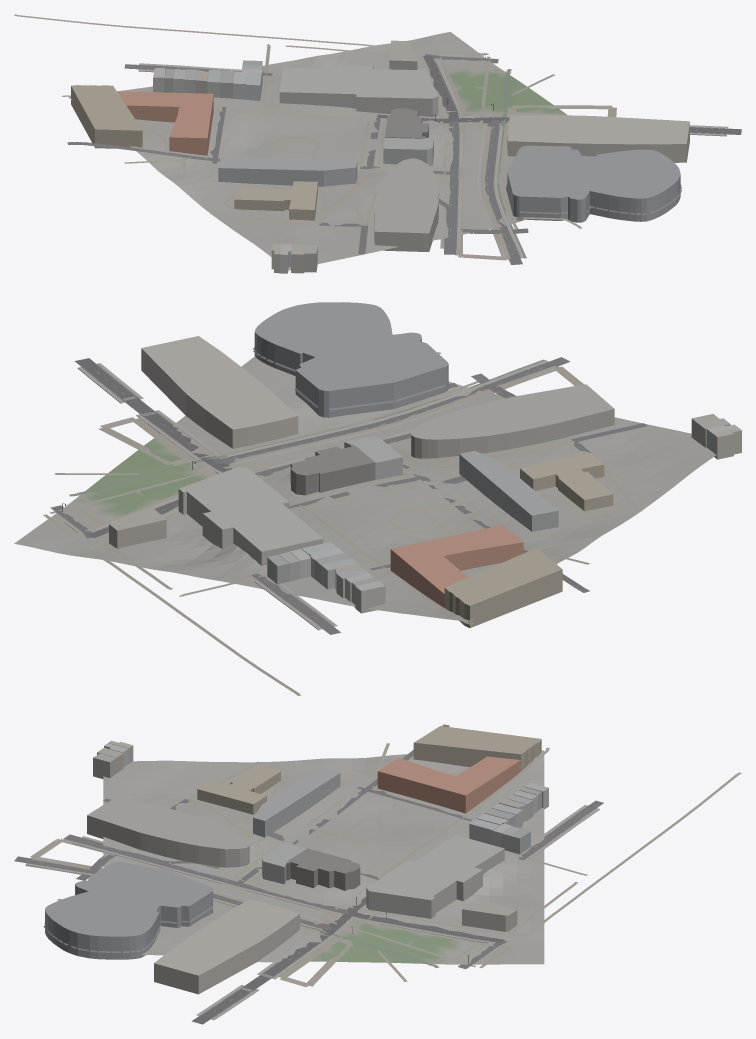
The model's file is tile_-5_-3.glb.
3 renders of one model, top to bottom at view 1: azimuth 30°, elevation 25°; view 2: azimuth 150°, elevation 25°; view 3: azimuth 270°, elevation 25°, orthographic. The views are drawn at different scales.
Visible parts, largest first — view 1: buildings, terrain, paths, roads, sidewalks; view 2: buildings, terrain, paths, roads, sidewalks; view 3: buildings, terrain, paths, roads, sidewalks.
Boxes of the visible parts, x1,y1,x2,y2 form: buildings: (71,40,689,273); terrain: (68,32,593,270); paths: (14,14,616,260); roads: (67,54,741,264); sidewalks: (138,54,728,259); buildings: (109,302,741,627); terrain: (14,356,716,621); paths: (43,352,641,695); roads: (50,357,647,634); sidewalks: (64,360,558,630); buildings: (45,726,548,994); terrain: (103,750,544,964); paths: (25,743,741,987); roads: (14,724,603,1024); sidewalks: (26,805,599,1020).
Bounding box in the file's own units: 370 × 26.75 × 423.
